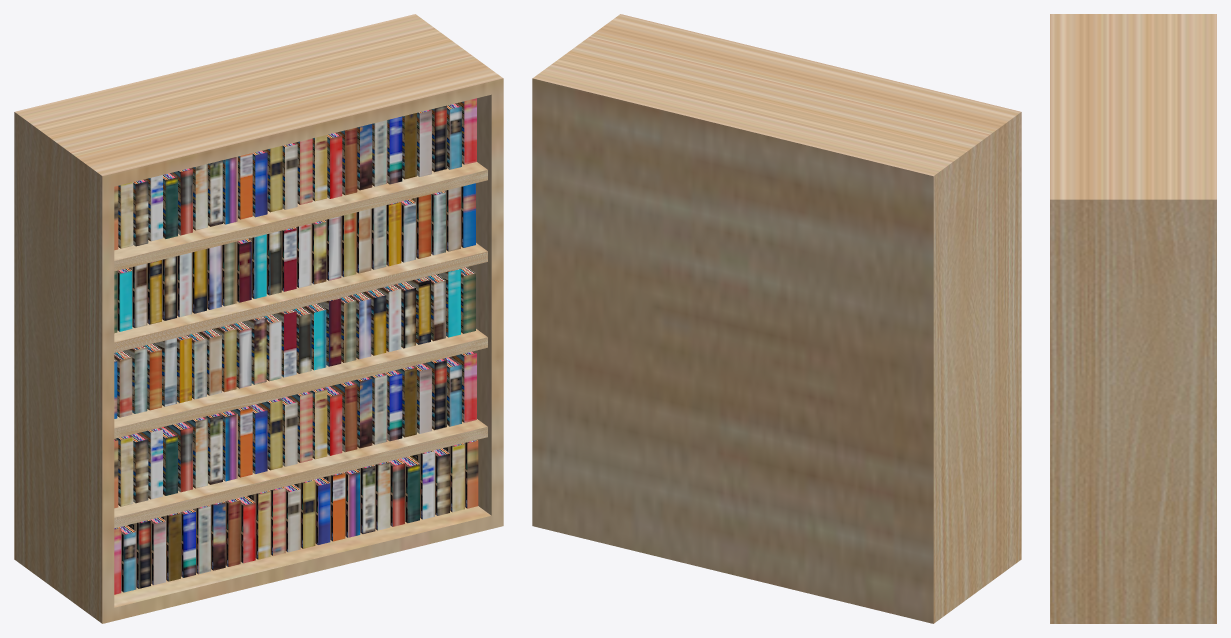
The model's file is bookshelves.fbx.
The picture shows the model from 3 angles, left to right: view 1: azimuth 30°, elevation 25°; view 2: azimuth 150°, elevation 25°; view 3: azimuth 270°, elevation 25°; orthographic projection. The views are drawn at different scales.
Parts seen in each view (by area): view 1: Cube, Cube.006, Cube.011, Cube.007, Cube.010, Cube.005, Cube.001, Cube.004, Cube.002, Cube.003; view 2: Cube; view 3: Cube.
Boxes of the visible parts, x1,y1,x2,y2 form: Cube: (14,14,503,623); Cube.006: (114,351,476,508); Cube.011: (114,440,478,594); Cube.007: (114,267,475,418); Cube.010: (114,98,476,250); Cube.005: (114,183,475,333); Cube.001: (114,162,487,271); Cube.004: (114,419,487,528); Cube.002: (114,243,487,352); Cube.003: (114,329,487,438); Cube: (532,14,1021,623); Cube: (1050,14,1216,623).
Size of the model in its own units: 526 by 561 by 200.
